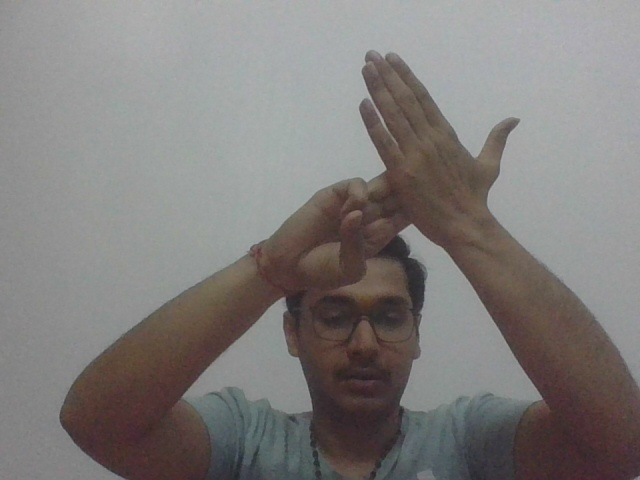M: (310, 43, 521, 285)
